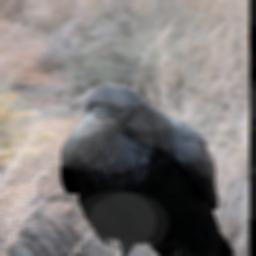Crow: (56, 83, 237, 256)
